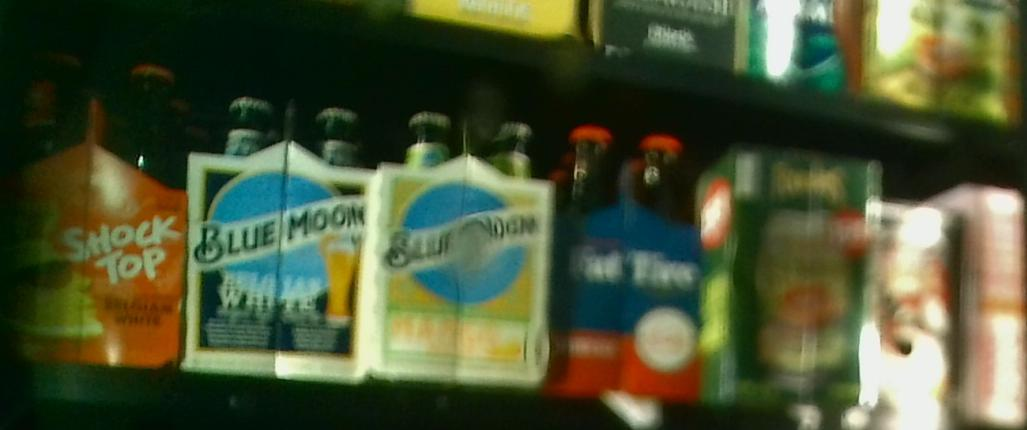bottle: (1, 56, 185, 371), (184, 77, 365, 388), (366, 100, 546, 389), (702, 136, 866, 397), (561, 113, 699, 400), (873, 203, 957, 411)
